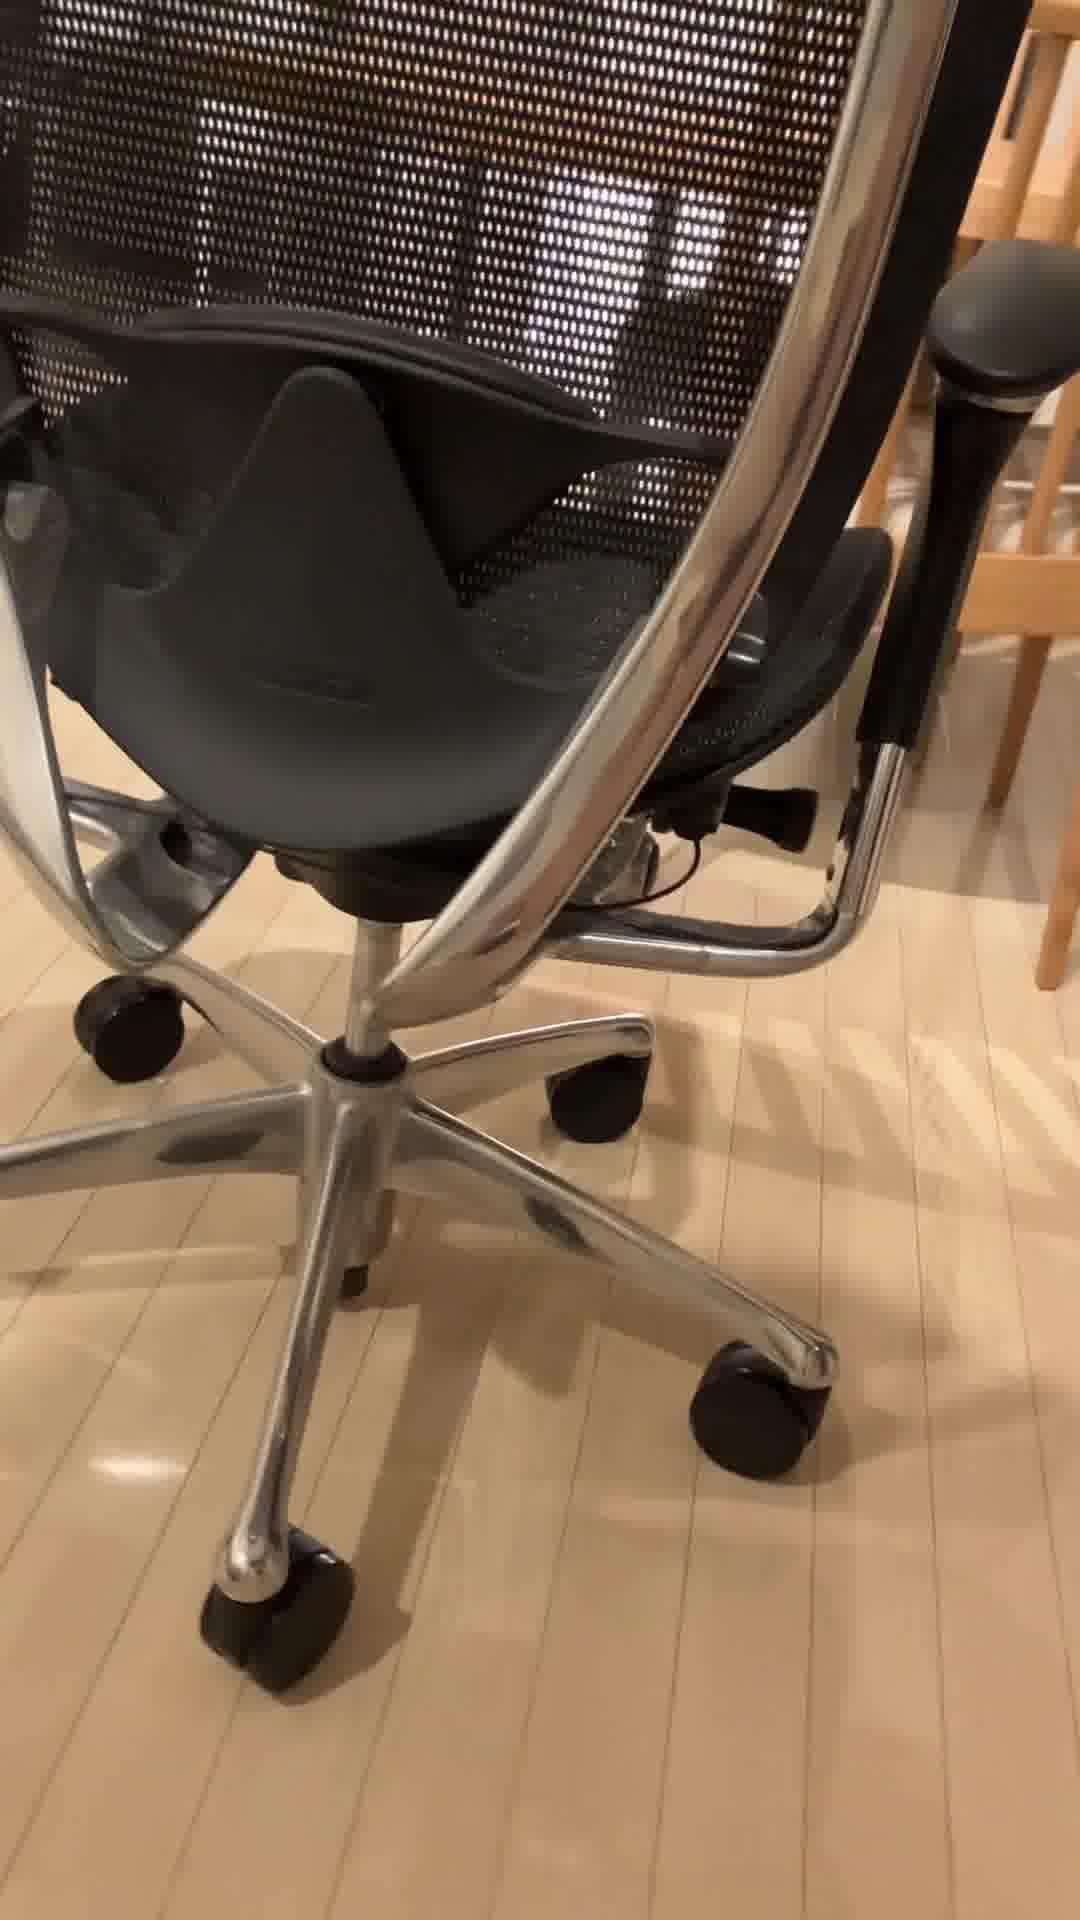okamura-contessa: (0, 0, 1080, 1702)
